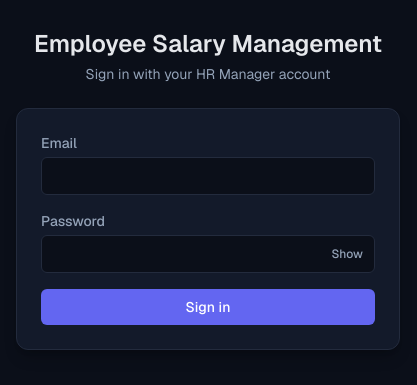
Test: LoginPage › shows the error message and does not redirect on failure
Type "hr@acme.test" into the field labelled "Email" at (208, 176), box top-left (41, 157), bottom-right (375, 195)
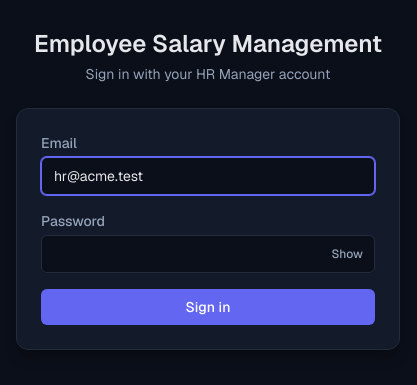
Type "wrong" into the password field labelled "Password" at (208, 254), box top-left (41, 235), bottom-right (375, 273)
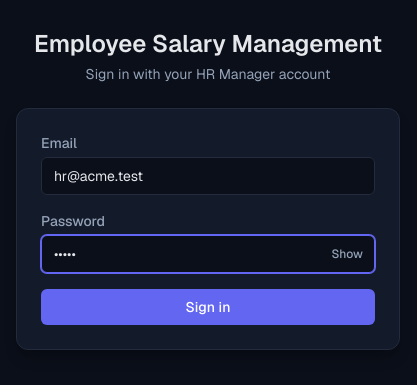
Click the button "Sign in" at (208, 307), box top-left (41, 289), bottom-right (375, 325)
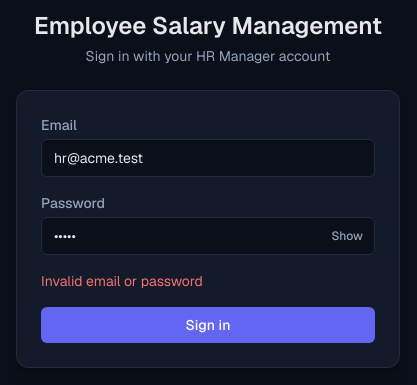
Result: the message reads "Invalid email or password" at top-left (41, 272), bottom-right (203, 290)
